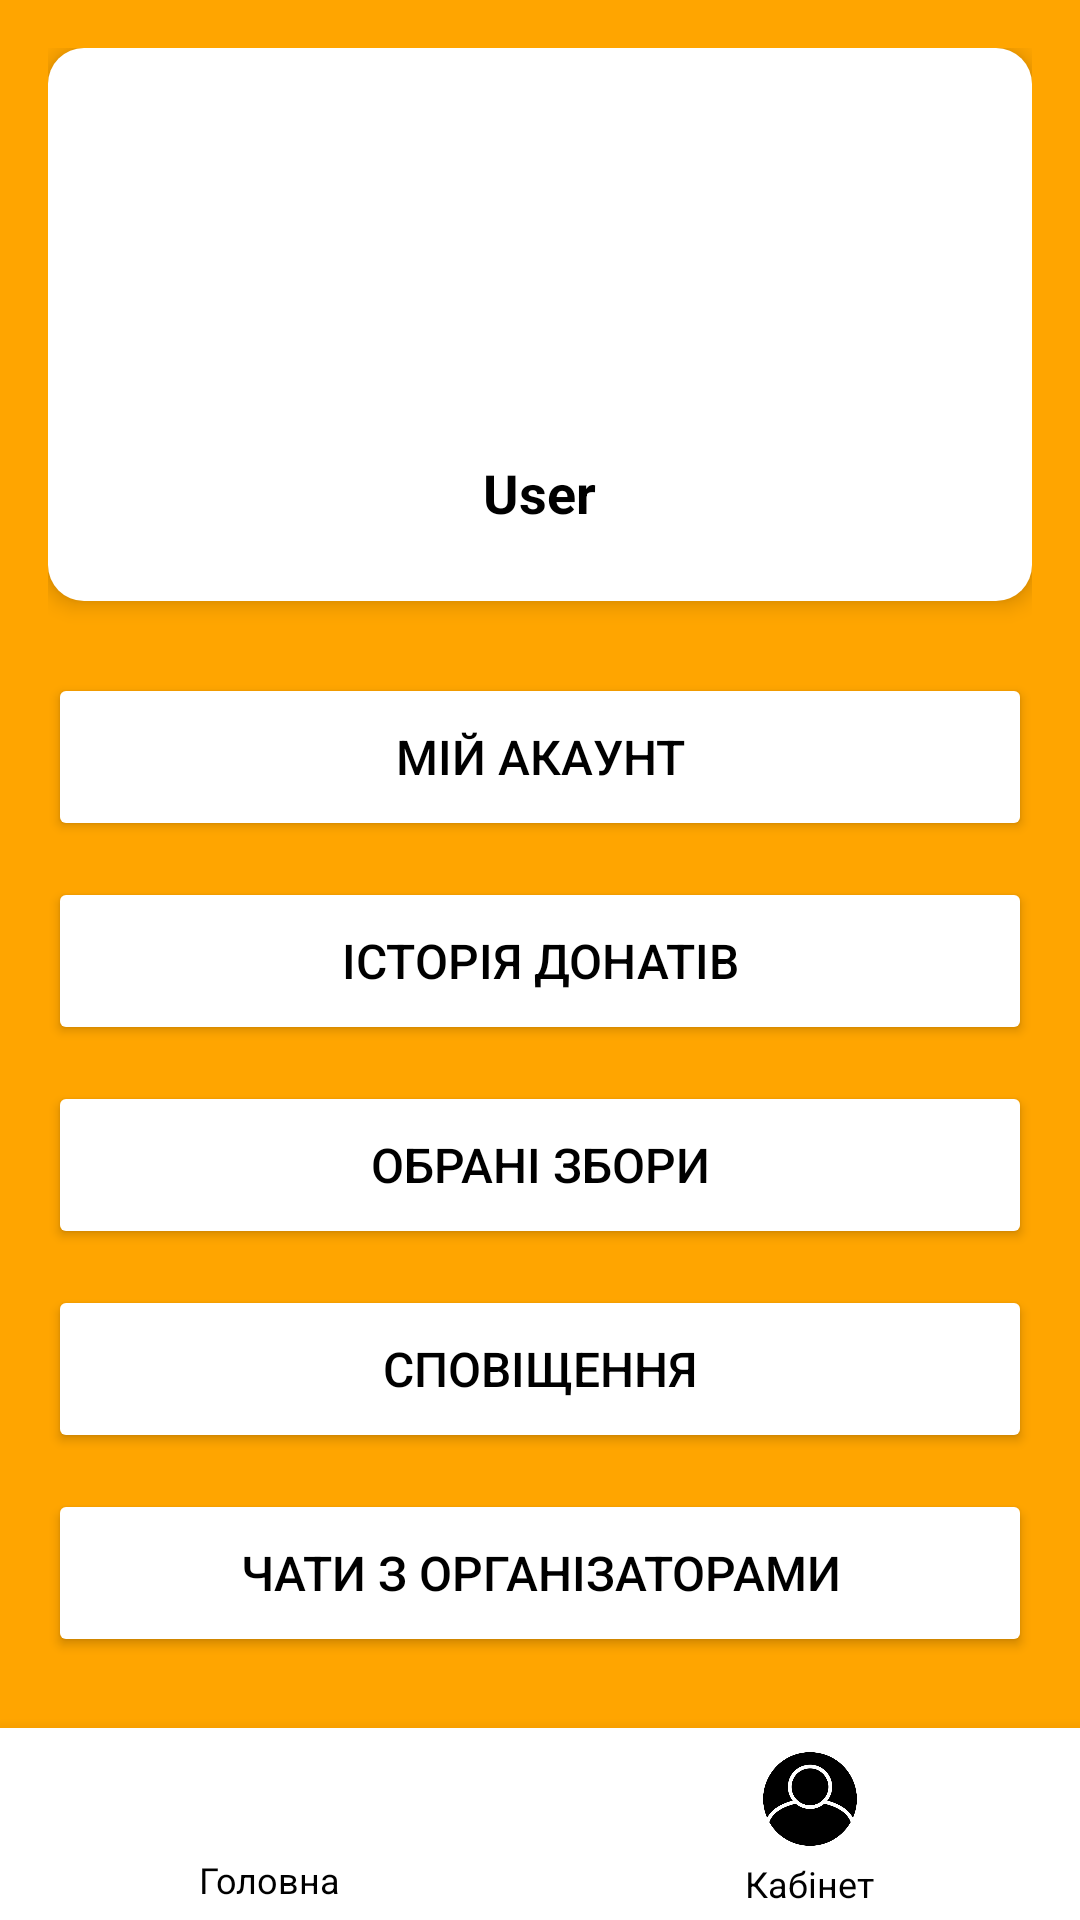

Point at icon controls on the screen. Image size 1080px×1920px, points as (x,y).
user: (810,1799)
